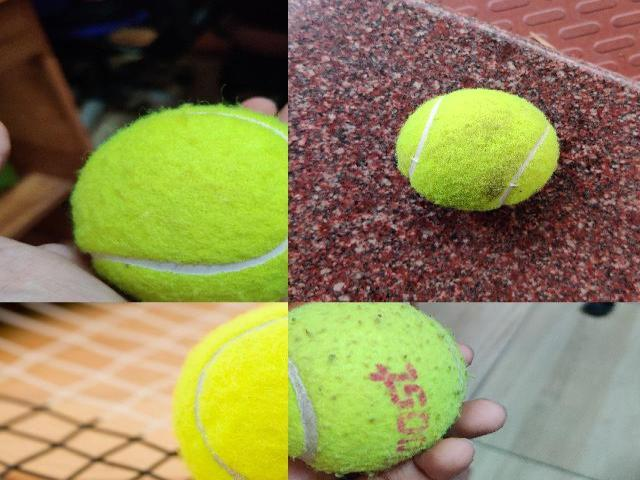tennis-ball: (71, 106, 287, 302), (288, 302, 470, 475), (169, 302, 287, 480), (396, 88, 558, 210)
